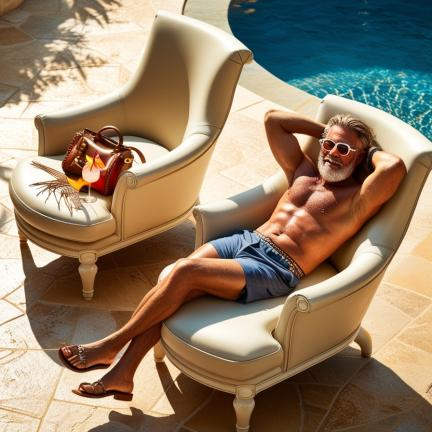guest on chair: (59, 97, 432, 432)
occupied chair: (9, 11, 252, 300)
